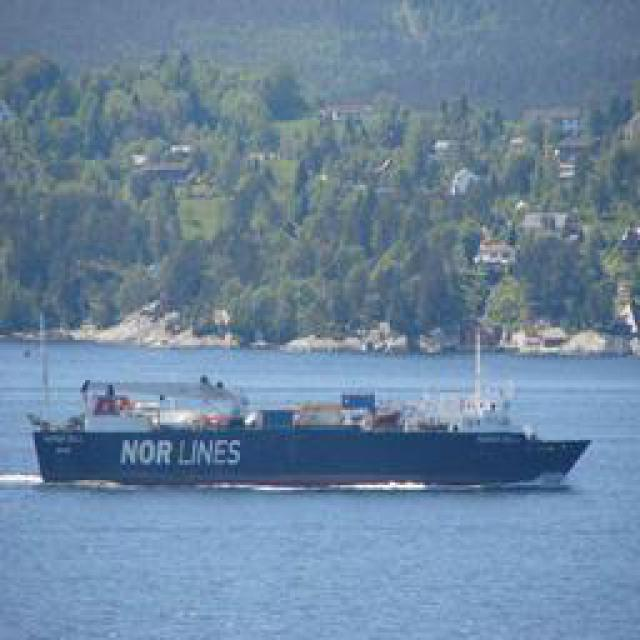Ship: (19, 382, 614, 490)
